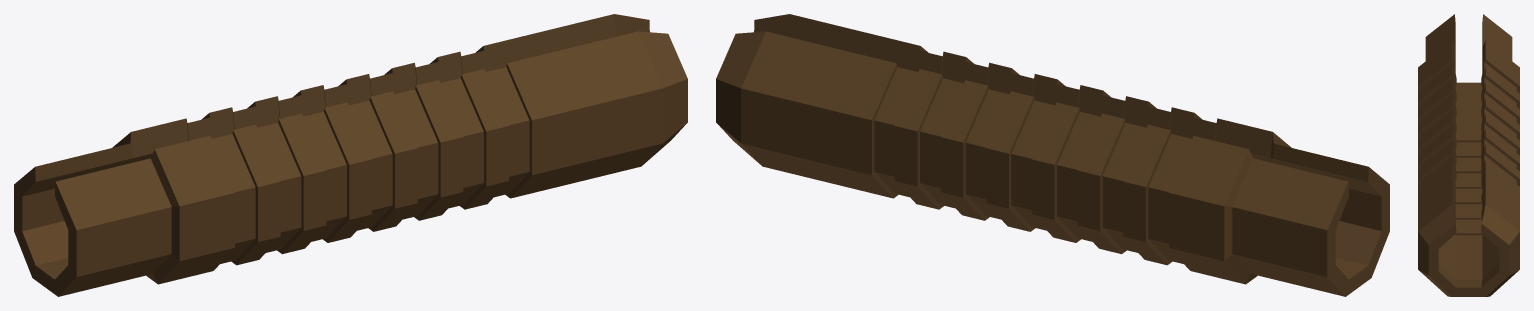
Rendered from SM_Shotguns3_02_2.glb.
3 views of the same model, side by side, from view 1: azimuth 30°, elevation 25°; view 2: azimuth 150°, elevation 25°; view 3: azimuth 270°, elevation 25° (orthographic). The views are drawn at different scales.
Visible parts, largest first — view 1: SM_Shotguns3_02_2; view 2: SM_Shotguns3_02_2; view 3: SM_Shotguns3_02_2.
Boxes of the visible parts, left/top/right/bottom form: SM_Shotguns3_02_2: left=14, top=14, right=687, bottom=296; SM_Shotguns3_02_2: left=716, top=14, right=1389, bottom=296; SM_Shotguns3_02_2: left=1418, top=14, right=1519, bottom=296.
Size of the model in its own units: 0.2346 by 0.0485 by 0.0485.
Materials: 1 (1 with a texture image).
